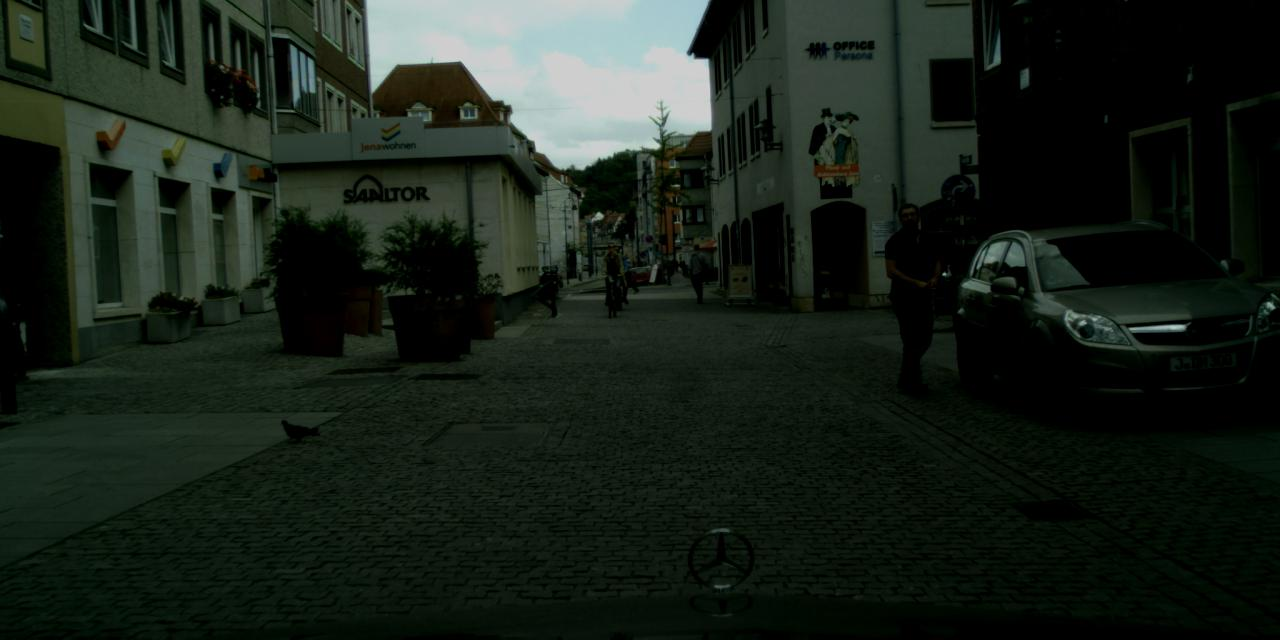ped: (871, 202, 950, 394), (598, 242, 625, 307), (686, 245, 710, 302), (606, 245, 628, 303), (617, 254, 632, 293), (669, 258, 679, 278), (682, 260, 686, 274)
